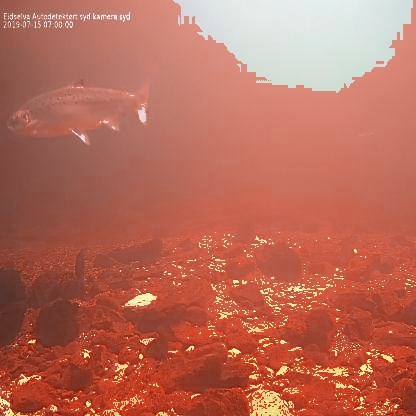salmon: (4, 70, 153, 146)
